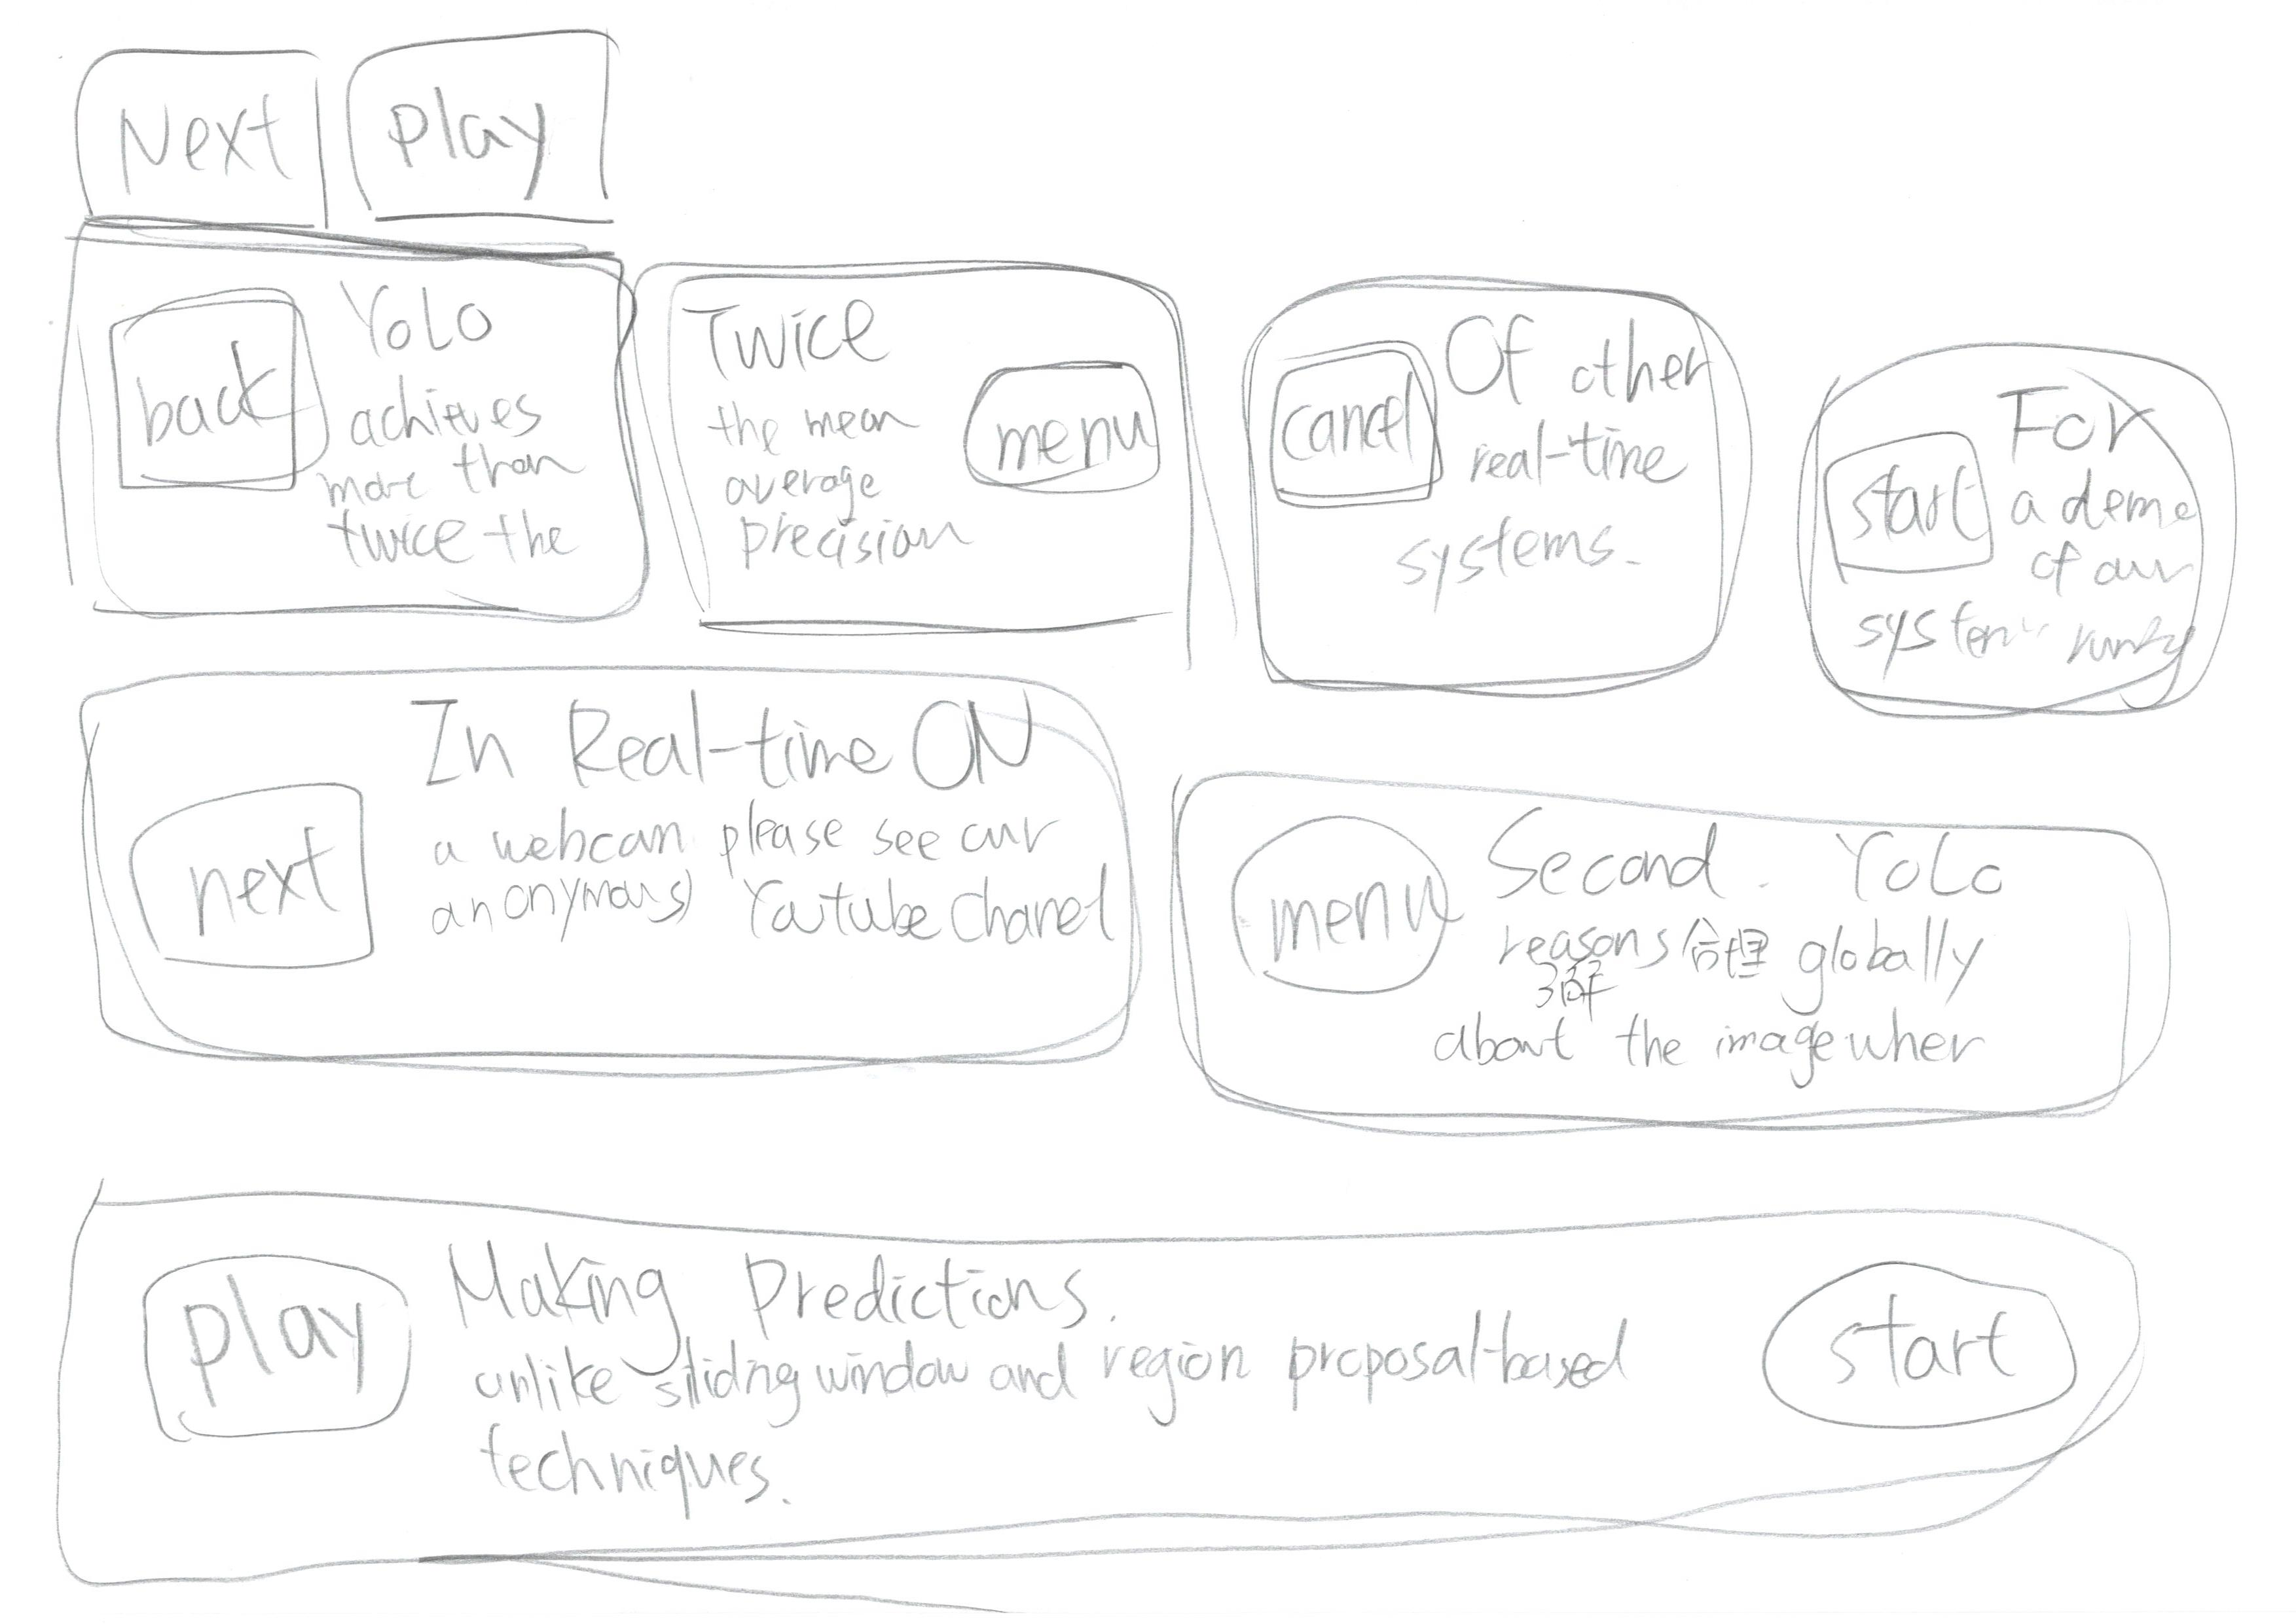back: (79, 279, 352, 538)
cancel: (1246, 315, 1452, 540)
double: (54, 643, 1148, 1118), (1141, 728, 2245, 1190)
menu: (1195, 789, 1473, 1026), (949, 327, 1178, 527)
next: (53, 21, 346, 255), (105, 743, 381, 990)
play: (323, 7, 652, 250), (130, 1237, 431, 1464)
quadruple: (40, 204, 686, 657), (652, 228, 1213, 692), (1227, 260, 1786, 724), (1786, 267, 2296, 736)
row: (11, 204, 2296, 745), (11, 642, 2296, 1183), (11, 1144, 2296, 1615), (11, 0, 2296, 248)
single: (32, 1142, 2270, 1575)
small-title: (431, 1234, 1109, 1350), (396, 685, 1013, 793), (1493, 801, 2018, 910), (686, 285, 926, 376), (1424, 327, 1700, 406), (325, 272, 510, 357), (2006, 385, 2161, 469)
start: (1712, 1243, 2111, 1457), (1814, 420, 2001, 594)
text: (438, 1323, 1672, 1490), (403, 794, 1083, 977), (1496, 917, 2059, 1074), (1420, 420, 1681, 606), (352, 376, 591, 576), (703, 387, 955, 575), (2002, 489, 2178, 652)
